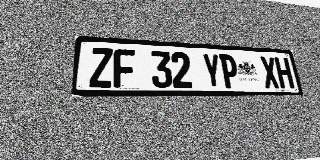2: (171, 52, 192, 88)
3: (151, 51, 173, 88)
F: (113, 49, 136, 88)
H: (274, 57, 295, 88)
P: (219, 54, 240, 88)
X: (259, 56, 280, 88)
Y: (201, 53, 223, 88)
Z: (89, 47, 113, 88)
